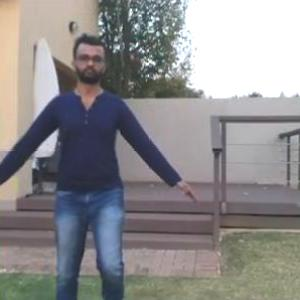land: (11, 51, 188, 299)
